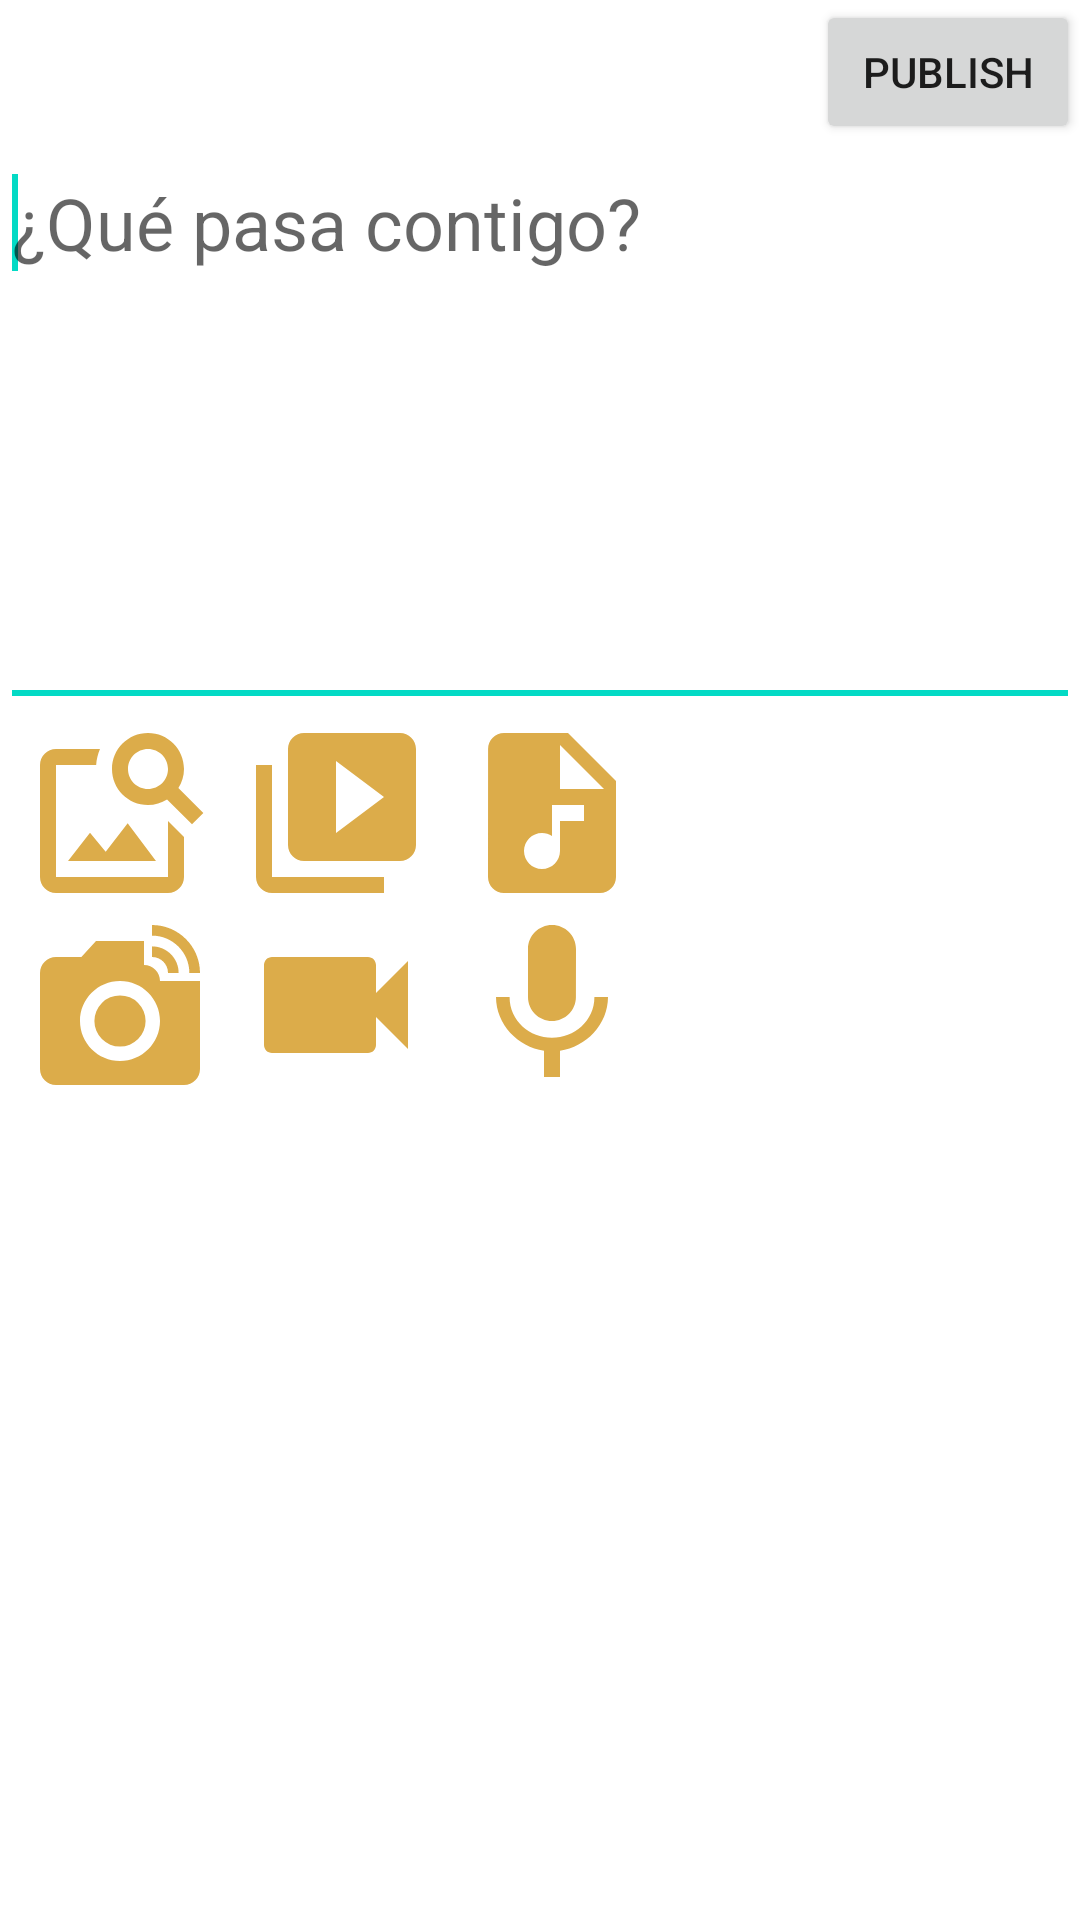

Named icons in this screenshot (1080 x 1920) and their bounding boxes, Rect(x1, y1, x2, y2):
audio: Rect(488, 733, 616, 893)
camera: Rect(40, 925, 200, 1085)
mic: Rect(496, 925, 608, 1077)
movie: Rect(256, 733, 416, 893)
video: Rect(264, 957, 408, 1053)
